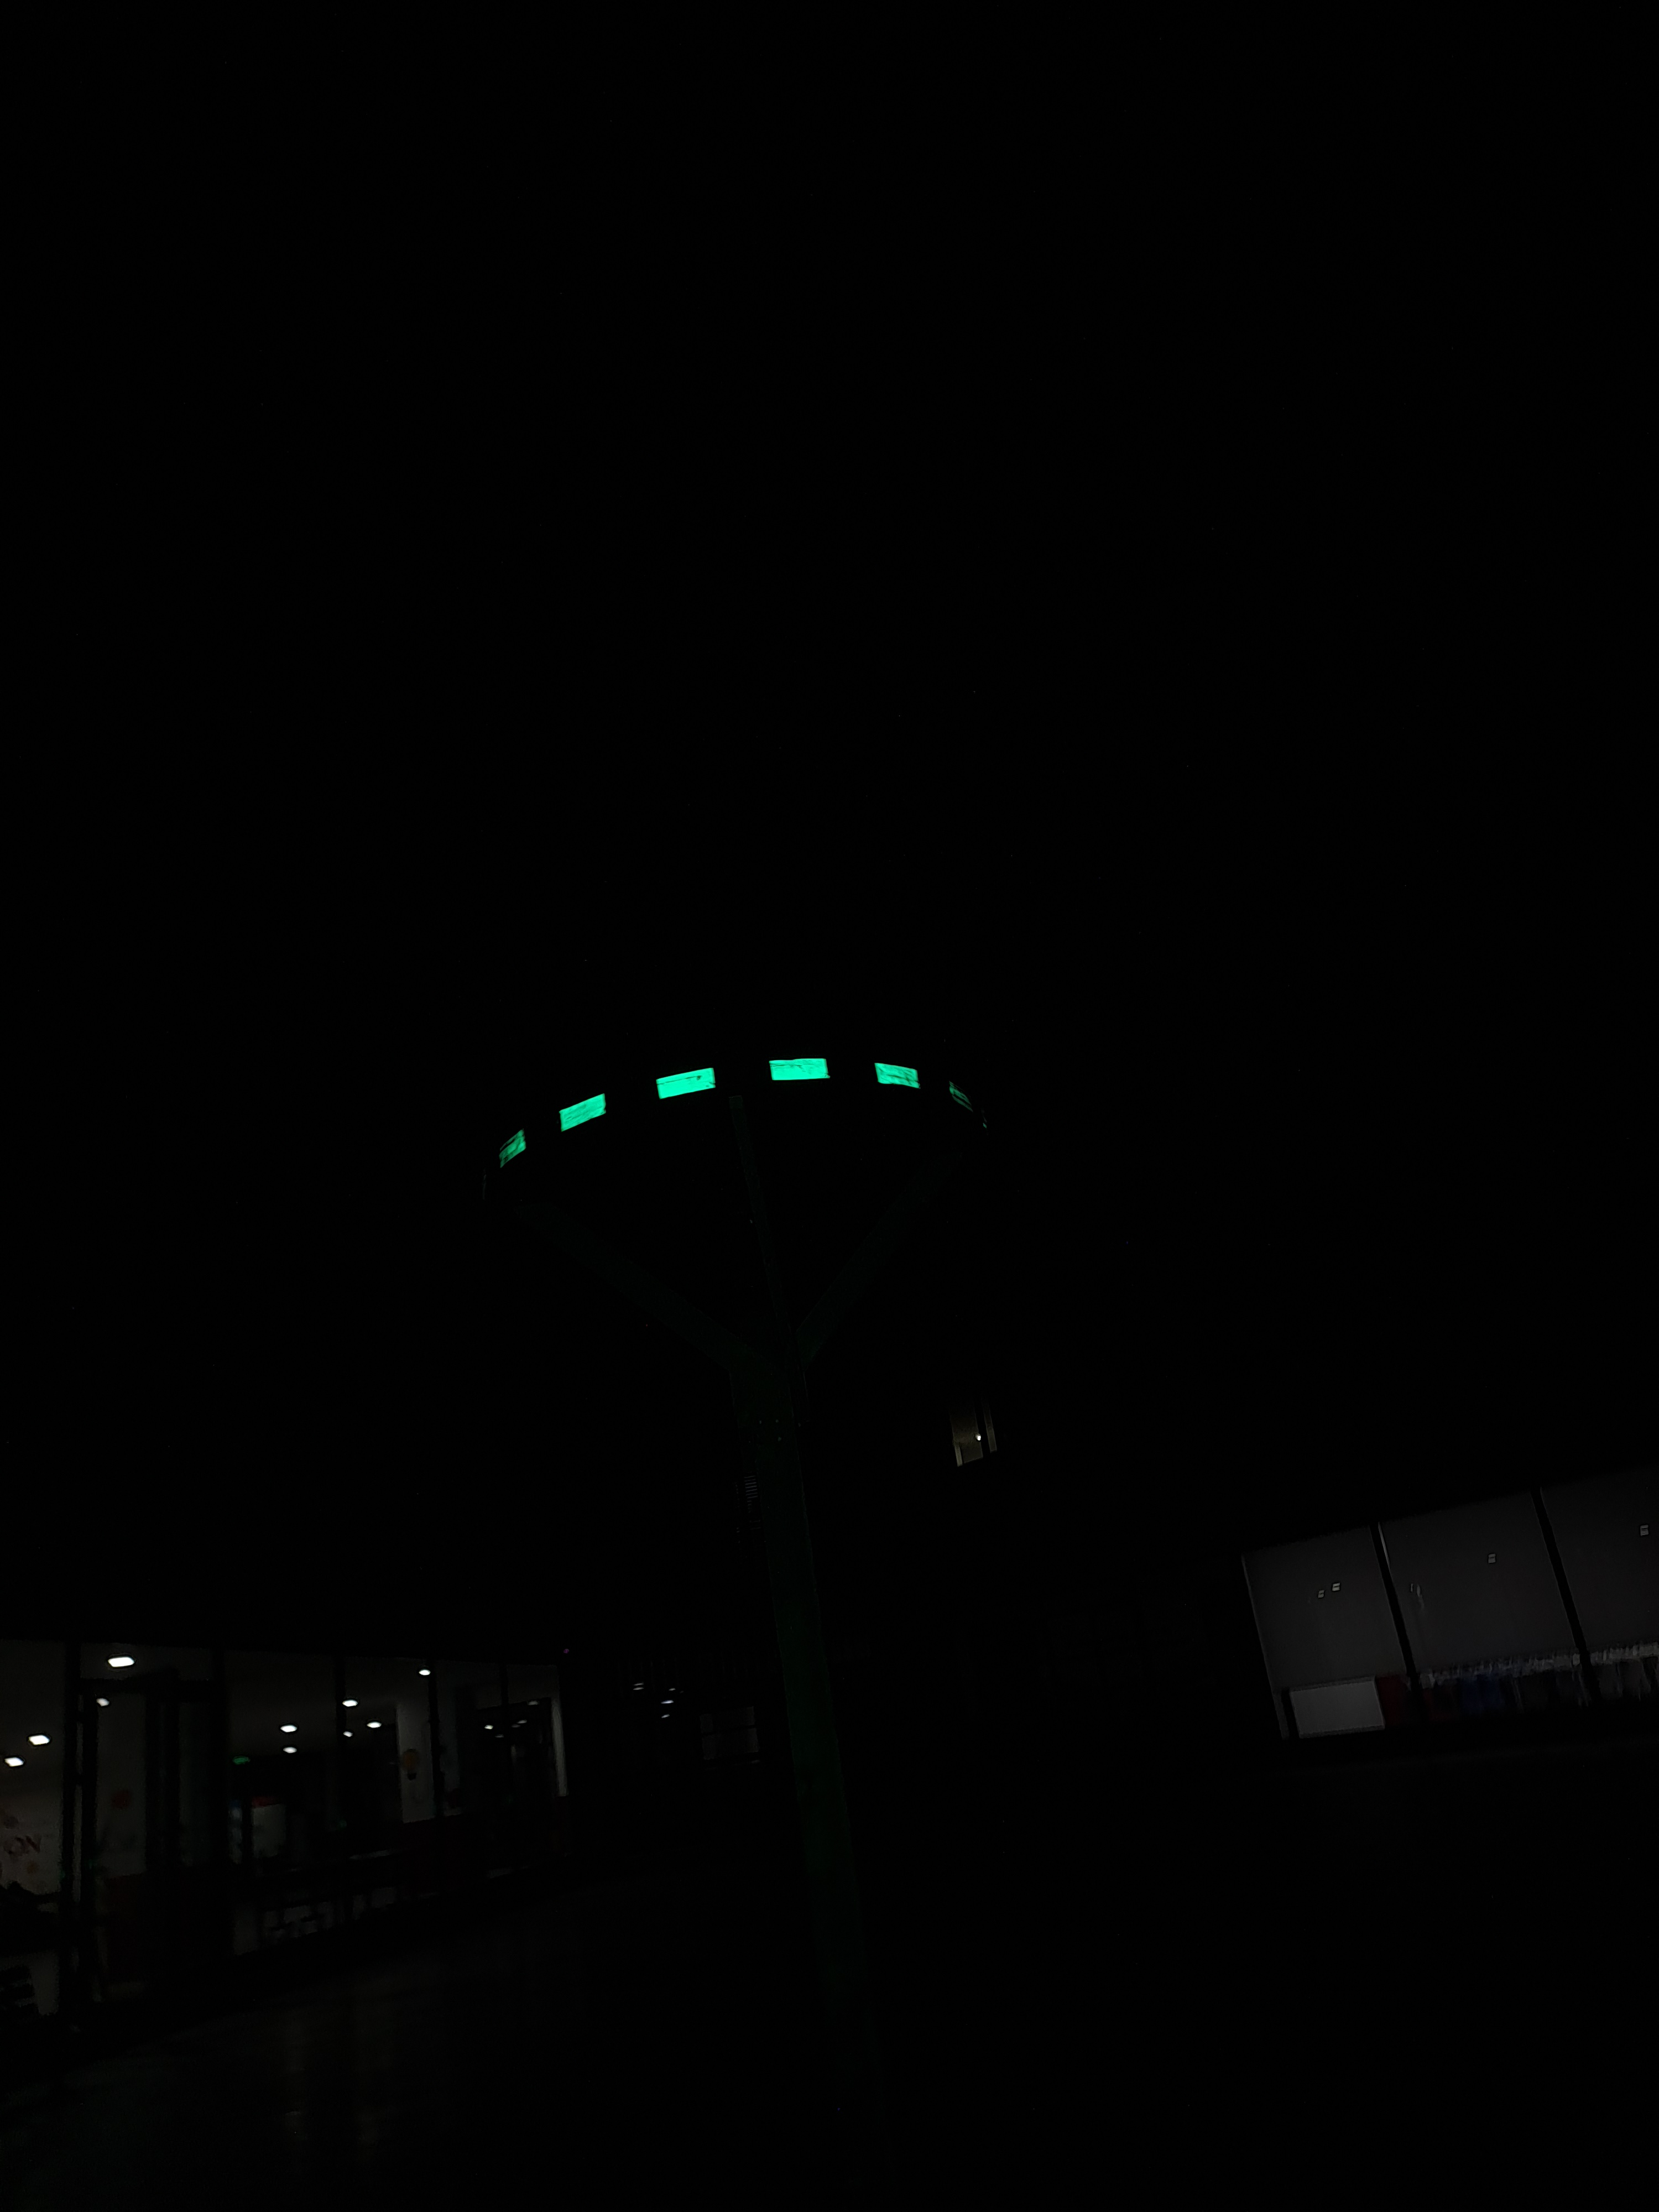hoop: (484, 1054, 929, 1170)
